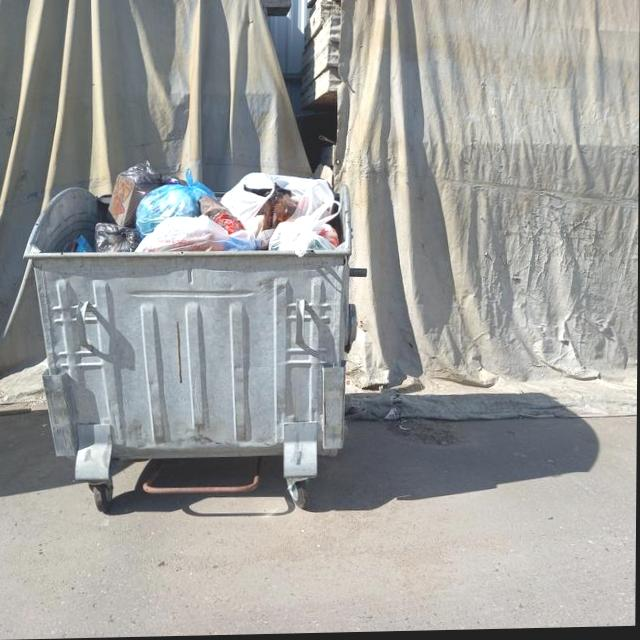Trash_Can_Full: (20, 159, 353, 462)
